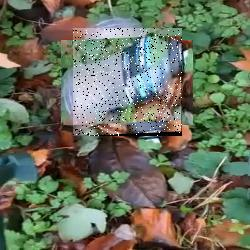plastic: (73, 28, 182, 136)
